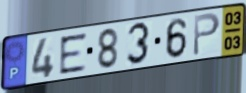3: (124, 20, 154, 67)
4: (30, 36, 56, 80)
6: (164, 17, 190, 61)
8: (96, 27, 120, 71)
E: (58, 31, 89, 77)
P: (192, 11, 222, 58)
